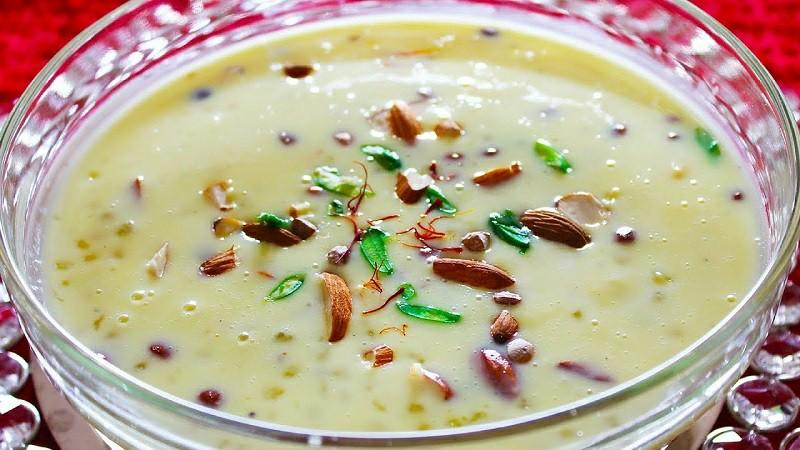Kheer: (40, 17, 771, 450)
